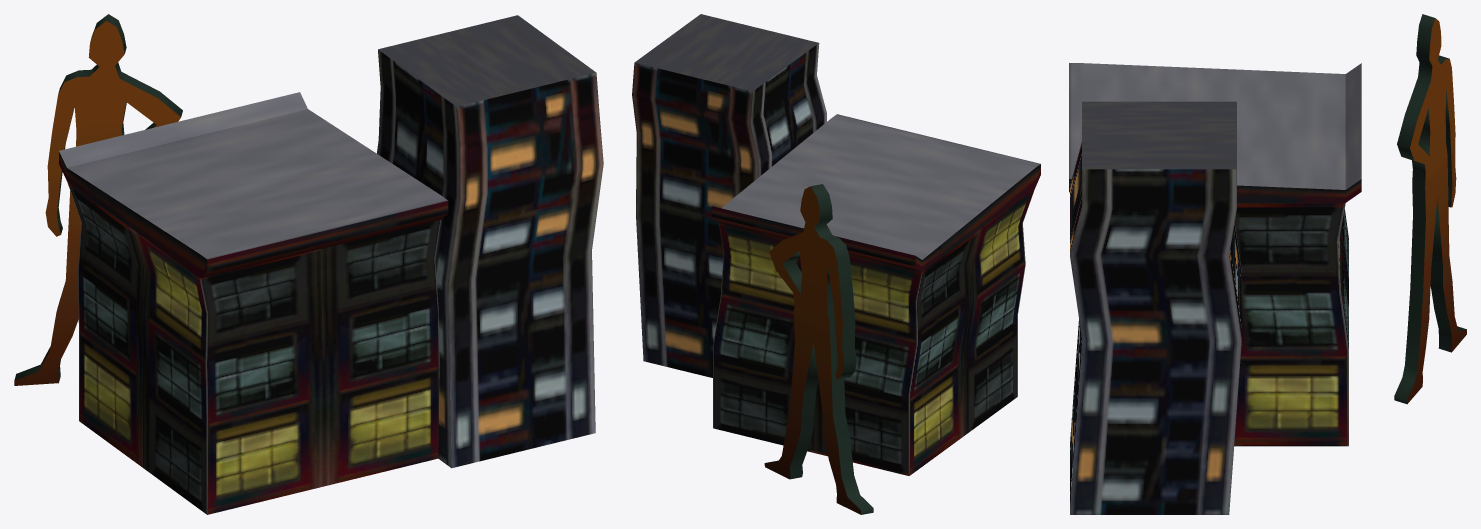
Rendered from saveicon.ico.obj.
3 renders of one model, left to right at view 1: azimuth 30°, elevation 25°; view 2: azimuth 150°, elevation 25°; view 3: azimuth 270°, elevation 25°, orthographic. The views are drawn at different scales.
Bounding box in the file's own units: 4.28 × 3.68 × 3.75.
Materials: 1 (1 with a texture image).
